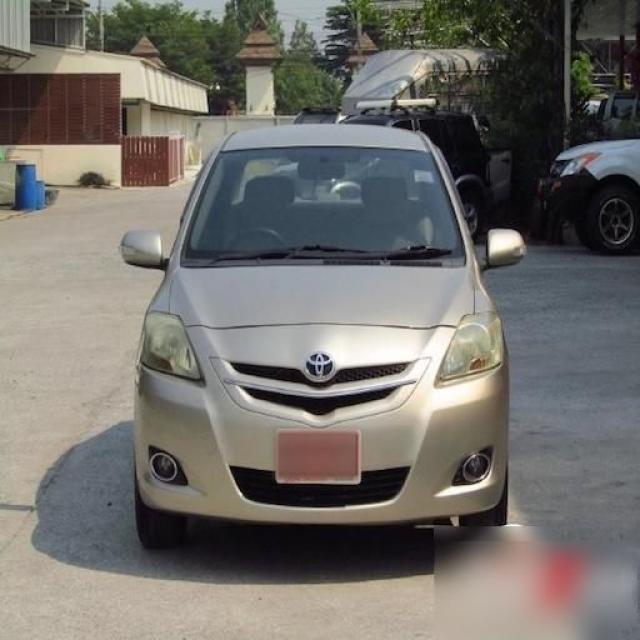front_bumper: (132, 324, 510, 524)
front_glass: (182, 146, 466, 267)
front_left_light: (438, 312, 502, 384)
front_right_light: (138, 311, 202, 379)
hood: (169, 266, 475, 329)
left_mirror: (479, 228, 527, 273)
right_mirror: (119, 229, 169, 273)
